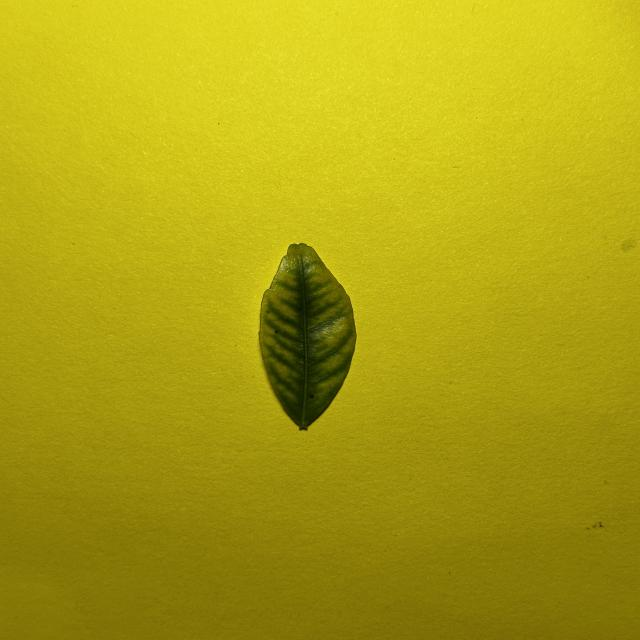greening: (259, 243, 356, 430)
